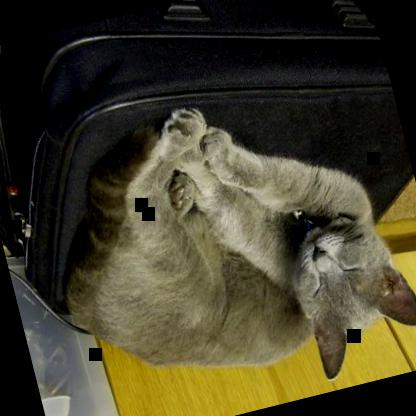cat: (27, 65, 415, 415)
